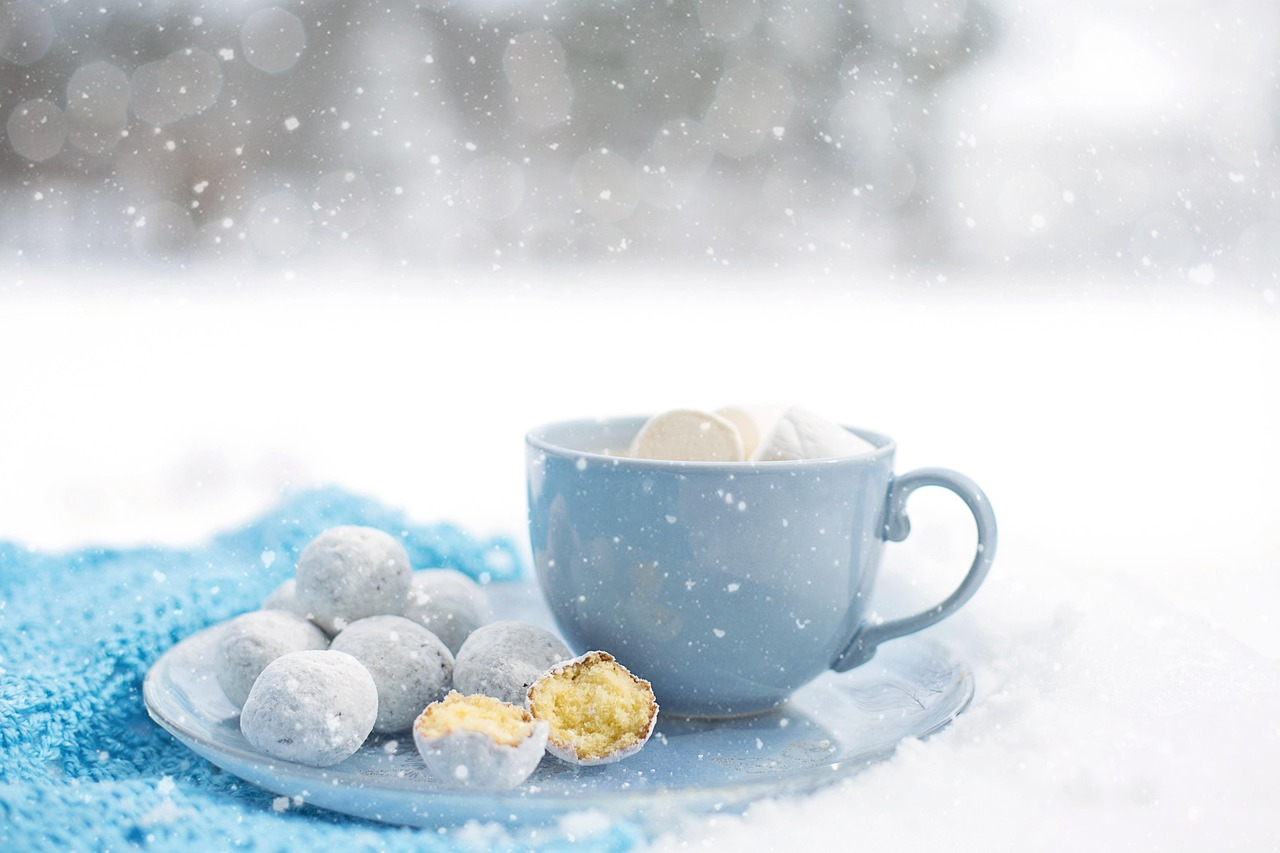mug: (430, 330, 1034, 755)
